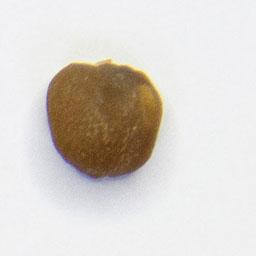defect: (42, 55, 167, 183)
